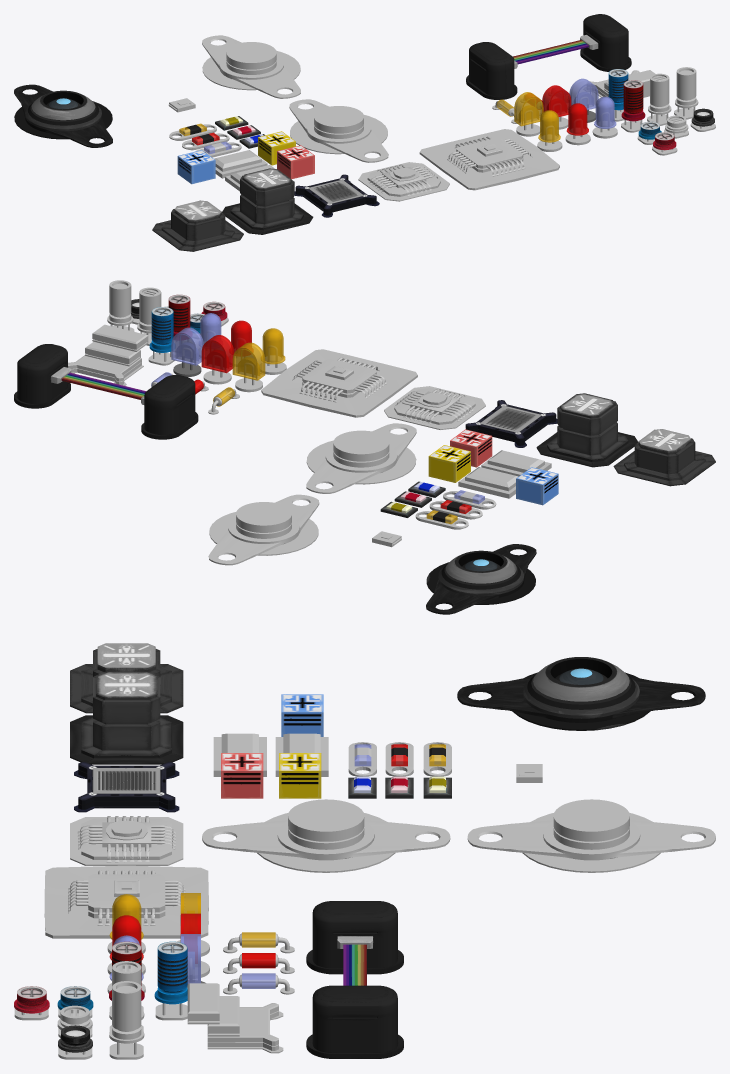
File: LilGuys.fbx
The picture shows the model from 3 angles, top to bottom: view 1: azimuth 30°, elevation 25°; view 2: azimuth 150°, elevation 25°; view 3: azimuth 270°, elevation 25°; orthographic projection. The views are drawn at different scales.
Visible parts, largest first — view 1: Circuit Connector, Motherboard.001, Camera.001, Button.002, Button, Circuit, Circuit small, Small Button.001, Fan, Cube.006, Cube.019, Cube.001 (+17 smaller); view 2: Circuit Connector, Motherboard.001, Camera.001, Button.002, Button, Circuit, Circuit small, Small Button.001, Fan, Cube.006, Cube.020, Cube.001 (+18 smaller); view 3: Circuit Connector, Camera.001, Button.002, Button, Motherboard.001, Circuit, Small Button.001, Fan, Circuit small, Step Base, Cube.019, Cube.020 (+26 smaller).
Part boxes in pixels (box(x1,y1,x2,y2)): Circuit Connector: box(466, 14, 631, 99); Motherboard.001: box(419, 129, 559, 190); Camera.001: box(14, 84, 112, 147); Button.002: box(202, 35, 300, 98); Button: box(289, 99, 388, 162); Circuit: box(222, 168, 313, 234); Circuit small: box(152, 200, 243, 251); Small Button.001: box(358, 162, 449, 201); Fan: box(294, 174, 379, 217); Cube.006: box(177, 150, 215, 184); Cube.019: box(277, 145, 314, 179); Cube.001: box(214, 150, 267, 178); Circuit Connector: box(14, 344, 198, 439); Motherboard.001: box(261, 349, 417, 417); Camera.001: box(426, 544, 536, 614); Button.002: box(208, 494, 319, 565); Button: box(306, 423, 416, 493); Circuit: box(536, 393, 638, 467); Circuit small: box(613, 429, 715, 486); Small Button.001: box(384, 386, 485, 429); Fan: box(465, 400, 557, 447); Cube.006: box(516, 467, 558, 505); Cube.020: box(428, 445, 470, 482); Cube.001: box(458, 467, 518, 498); Circuit Connector: box(306, 901, 403, 1058); Camera.001: box(457, 657, 705, 730); Button.002: box(467, 799, 715, 872); Button: box(202, 799, 450, 872); Motherboard.001: box(44, 865, 208, 938); Circuit: box(70, 671, 183, 764); Small Button.001: box(70, 817, 183, 865); Fan: box(74, 762, 179, 812); Circuit small: box(70, 643, 183, 713); Step Base: box(207, 1003, 283, 1053); Cube.019: box(221, 753, 263, 798); Cube.020: box(279, 753, 321, 798).
Size of the model in its own units: 9926 by 833 by 7470.
